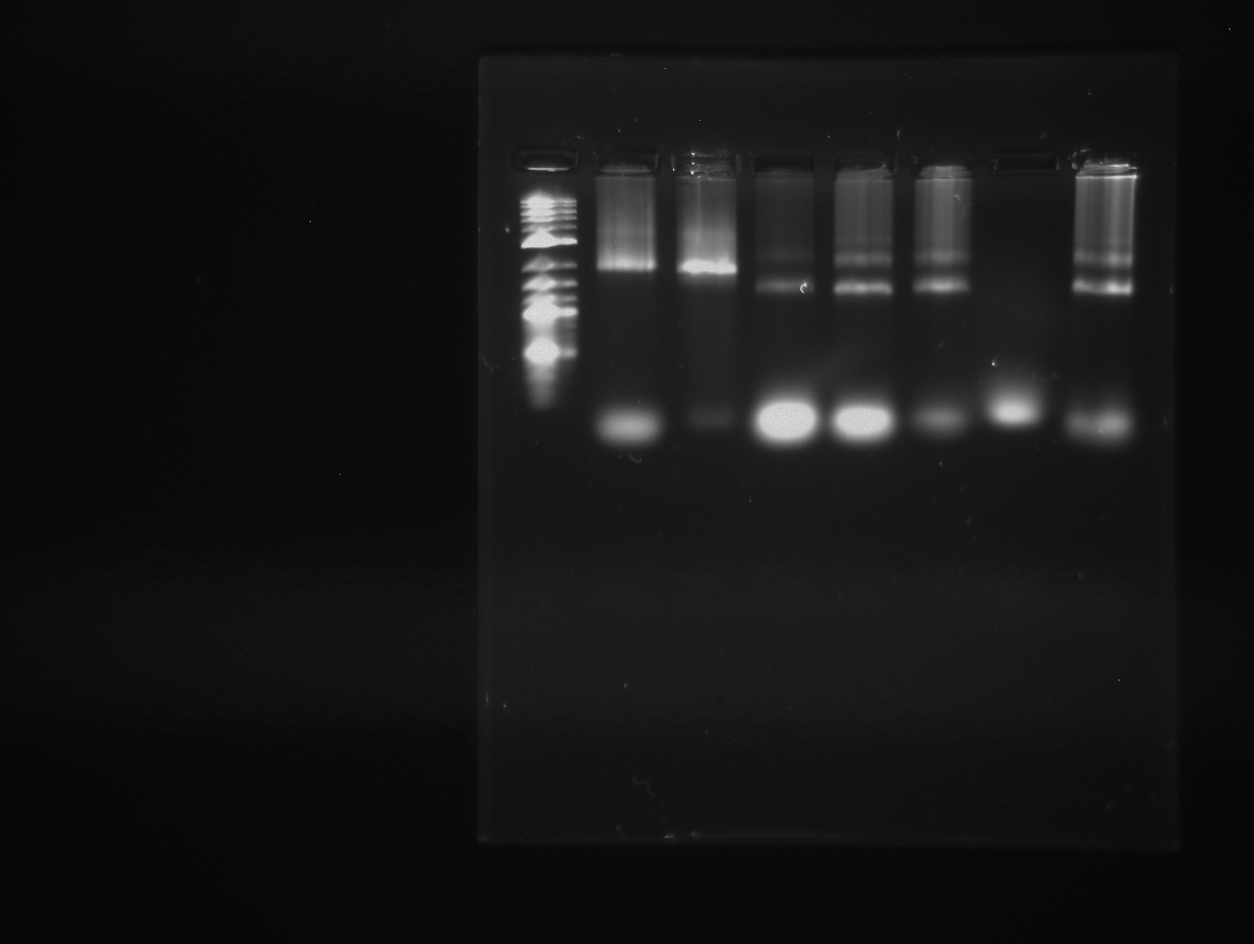Lane: (1070, 62, 1142, 944), (666, 85, 736, 944), (595, 85, 663, 944), (823, 99, 892, 944), (751, 92, 814, 944), (920, 83, 975, 944), (989, 74, 1040, 944)
ladder: (514, 81, 587, 905)
